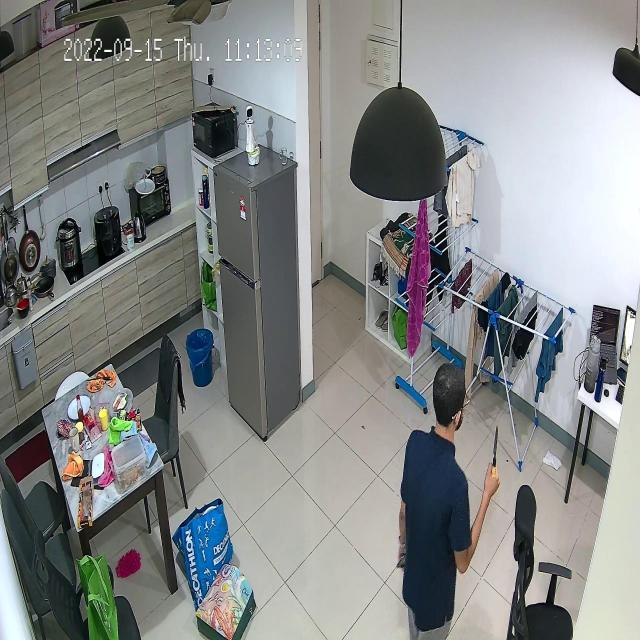Knife: (481, 422, 509, 482)
